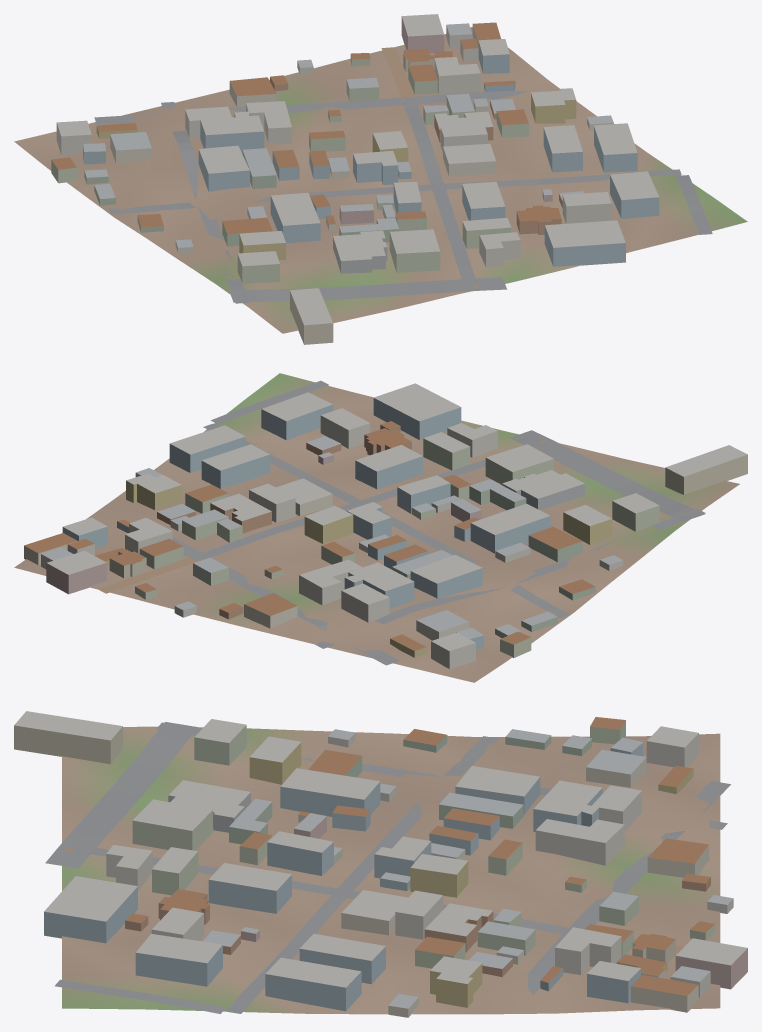
3 views of the same model, one above another, from view 1: azimuth 30°, elevation 25°; view 2: azimuth 150°, elevation 25°; view 3: azimuth 270°, elevation 25° (orthographic). The views are drawn at different scales.
Visible parts, largest first — view 1: Lo; view 2: Lo; view 3: Lo.
Boxes of the visible parts, left/top/right/bottom form: Lo: left=14, top=14, right=747, bottom=344; Lo: left=14, top=373, right=747, bottom=682; Lo: left=14, top=711, right=747, bottom=1017.
Bounding box in the file's own units: 263 × 13.99 × 285.
